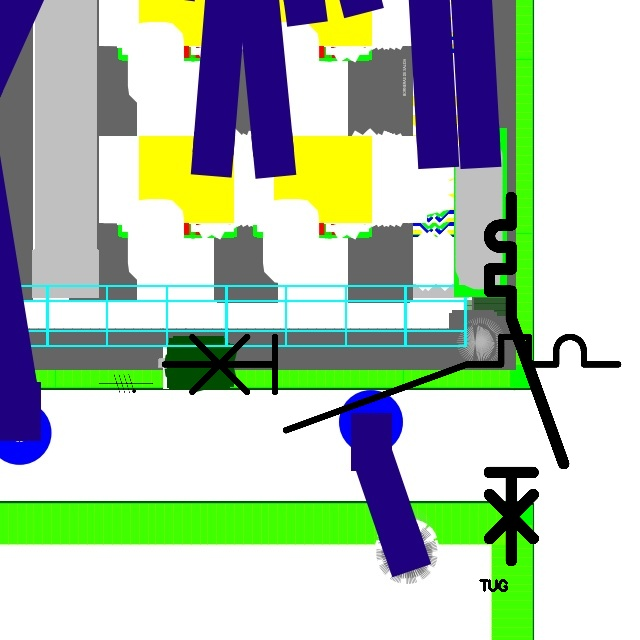interruptor_termomagnetico: (152, 325, 629, 442), (480, 188, 573, 570)
